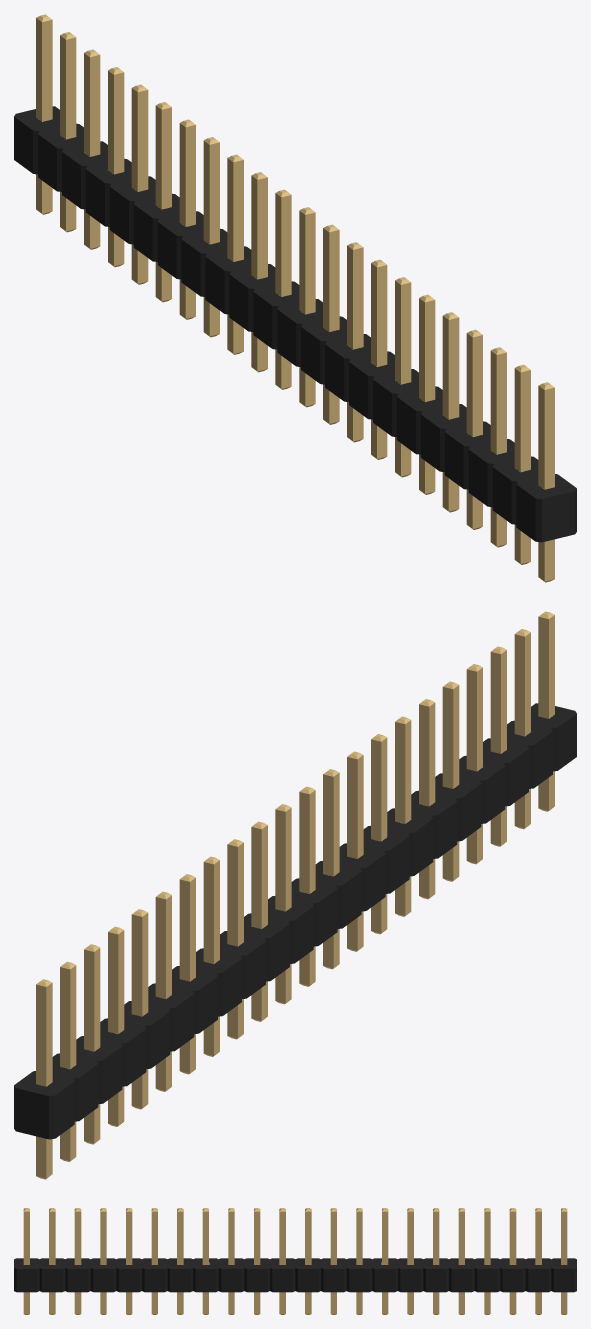
Rendered from kc-pinheader_1x22_p2.54mm_vertical.glb.
The picture shows the model from 3 angles, top to bottom: view 1: azimuth 30°, elevation 25°; view 2: azimuth 150°, elevation 25°; view 3: azimuth 270°, elevation 25°; orthographic projection. The views are drawn at different scales.
Parts seen in each view (by area): view 1: 0.75_0.5_0.25_0.9, 0_0_0_0; view 2: 0.75_0.5_0.25_0.9, 0_0_0_0; view 3: 0_0_0_0, 0.75_0.5_0.25_0.9.
Part boxes in pixels (left/top/right/bottom): 0.75_0.5_0.25_0.9: left=36, top=14, right=554, bottom=582; 0_0_0_0: left=14, top=106, right=576, bottom=542; 0.75_0.5_0.25_0.9: left=36, top=611, right=554, bottom=1179; 0_0_0_0: left=14, top=703, right=576, bottom=1139; 0_0_0_0: left=14, top=1258, right=576, bottom=1292; 0.75_0.5_0.25_0.9: left=23, top=1208, right=567, bottom=1314.
Size of the model in its own units: 0.2538 by 1.15 by 5.59.
